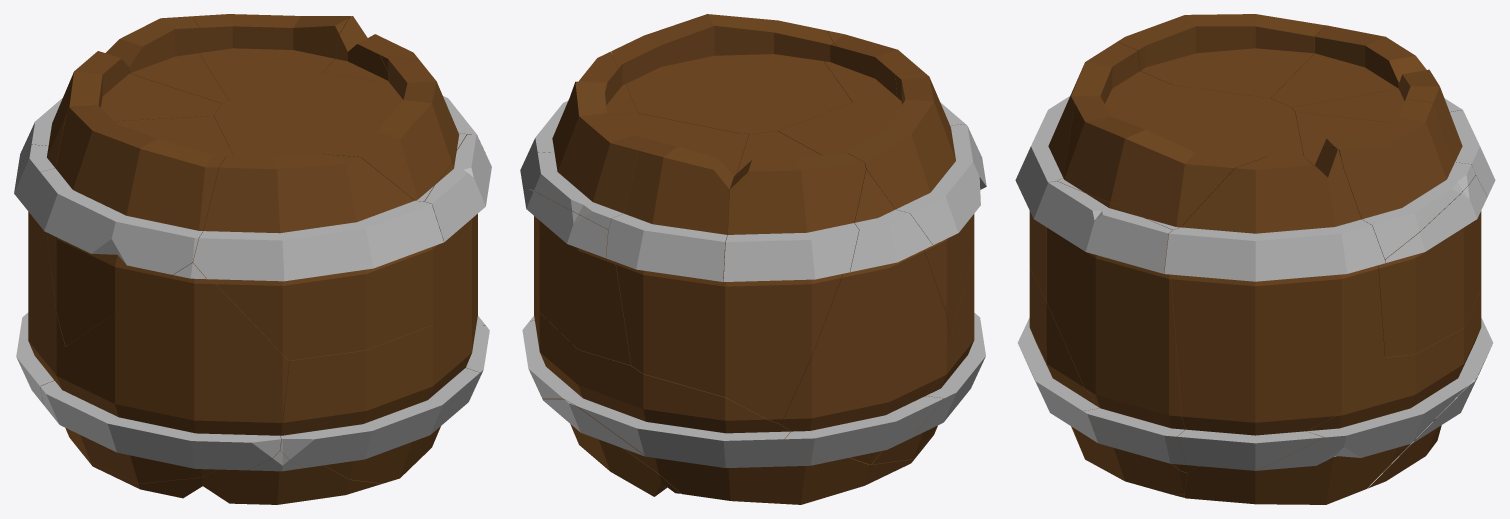
File: LowPolyKegShattered3.fbx
3 views of the same model, side by side, from view 1: azimuth 30°, elevation 25°; view 2: azimuth 150°, elevation 25°; view 3: azimuth 270°, elevation 25° (orthographic). The views are drawn at different scales.
Visible parts, largest first — view 1: Cylinder.001_cell.014, Cylinder.001_cell.009, Cylinder.001_cell.011, Cylinder.001_cell.012, Cylinder.001_cell.001, Cylinder.001_cell, Cylinder.001_cell.007, Cylinder.001_cell.002, Cylinder.001_cell.003, Cylinder.001_cell.006, Cylinder.001_cell.004, Cylinder.001_cell.010; view 2: Cylinder.001_cell.002, Cylinder.001_cell.003, Cylinder.001_cell.005, Cylinder.001_cell.004, Cylinder.001_cell.001, Cylinder.001_cell.011, Cylinder.001_cell.007, Cylinder.001_cell.013, Cylinder.001_cell.009, Cylinder.001_cell.014, Cylinder.001_cell.008, Cylinder.001_cell.010 (+1 smaller); view 3: Cylinder.001_cell.010, Cylinder.001_cell, Cylinder.001_cell.001, Cylinder.001_cell.005, Cylinder.001_cell.007, Cylinder.001_cell.011, Cylinder.001_cell.013, Cylinder.001_cell.012, Cylinder.001_cell.014, Cylinder.001_cell.002, Cylinder.001_cell.004, Cylinder.001_cell.008.
Part boxes in pixels (x1,y1,x2,y2): Cylinder.001_cell.014: (193,153,443,360); Cylinder.001_cell.009: (40,263,289,483); Cylinder.001_cell.011: (31,105,233,346); Cylinder.001_cell.012: (280,325,480,483); Cylinder.001_cell.001: (214,55,466,201); Cylinder.001_cell: (424,134,491,374); Cylinder.001_cell.007: (192,14,350,99); Cylinder.001_cell.002: (17,51,221,169); Cylinder.001_cell.003: (14,114,67,404); Cylinder.001_cell.006: (65,428,381,504); Cylinder.001_cell.004: (105,16,228,103); Cylinder.001_cell.010: (322,16,485,325); Cylinder.001_cell.002: (723,131,865,423); Cylinder.001_cell.003: (780,169,950,464); Cylinder.001_cell.005: (522,293,870,504); Cylinder.001_cell.004: (606,133,748,396); Cylinder.001_cell.001: (611,14,852,134); Cylinder.001_cell.011: (778,71,986,335); Cylinder.001_cell.007: (525,82,738,229); Cylinder.001_cell.013: (523,186,631,365); Cylinder.001_cell.009: (871,147,985,464); Cylinder.001_cell.014: (824,30,965,125); Cylinder.001_cell.008: (542,399,680,496); Cylinder.001_cell.010: (520,51,637,321); Cylinder.001_cell.010: (1164,147,1385,470); Cylinder.001_cell: (1034,181,1196,472); Cylinder.001_cell.001: (1057,85,1303,229); Cylinder.001_cell.005: (1184,292,1493,504); Cylinder.001_cell.007: (1295,99,1475,259); Cylinder.001_cell.011: (1117,14,1325,98); Cylinder.001_cell.013: (1377,175,1487,357); Cylinder.001_cell.012: (1017,267,1187,494); Cylinder.001_cell.014: (1015,41,1172,302); Cylinder.001_cell.002: (1271,25,1462,111); Cylinder.001_cell.004: (1292,69,1495,293); Cylinder.001_cell.008: (1368,376,1477,488).
Bounding box in the file's own units: 260 × 212 × 260.
